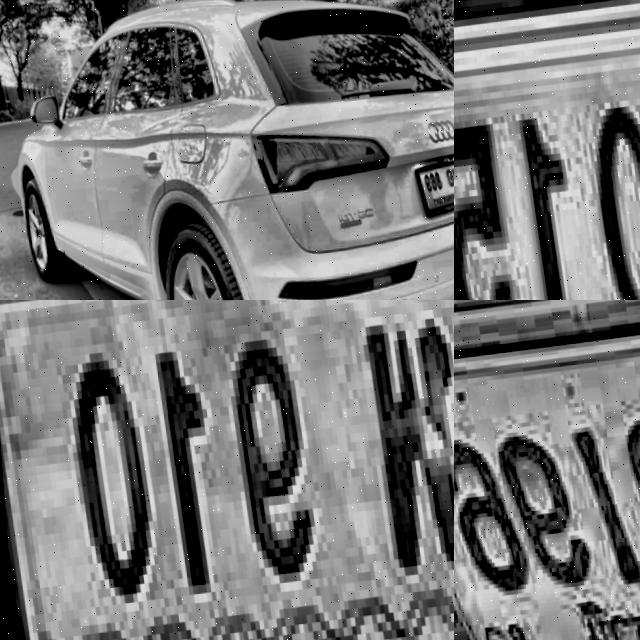license-plate: (0, 300, 454, 640), (454, 300, 640, 640), (454, 0, 640, 300), (408, 162, 454, 223)
